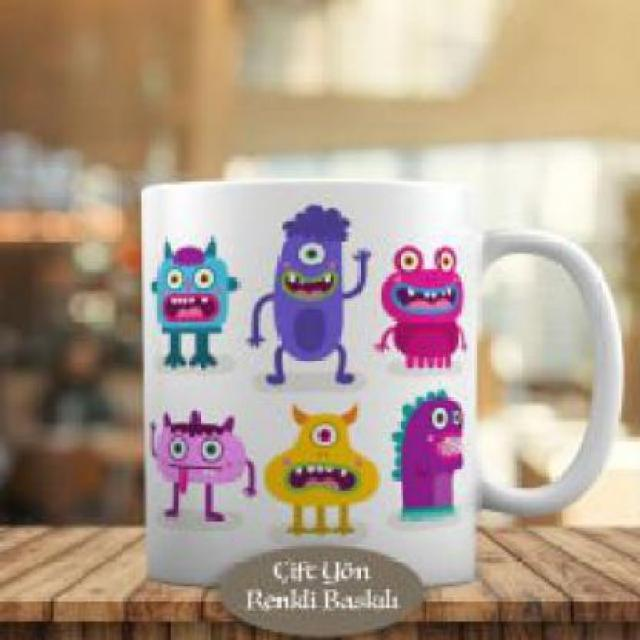taza: (137, 176, 627, 594)
